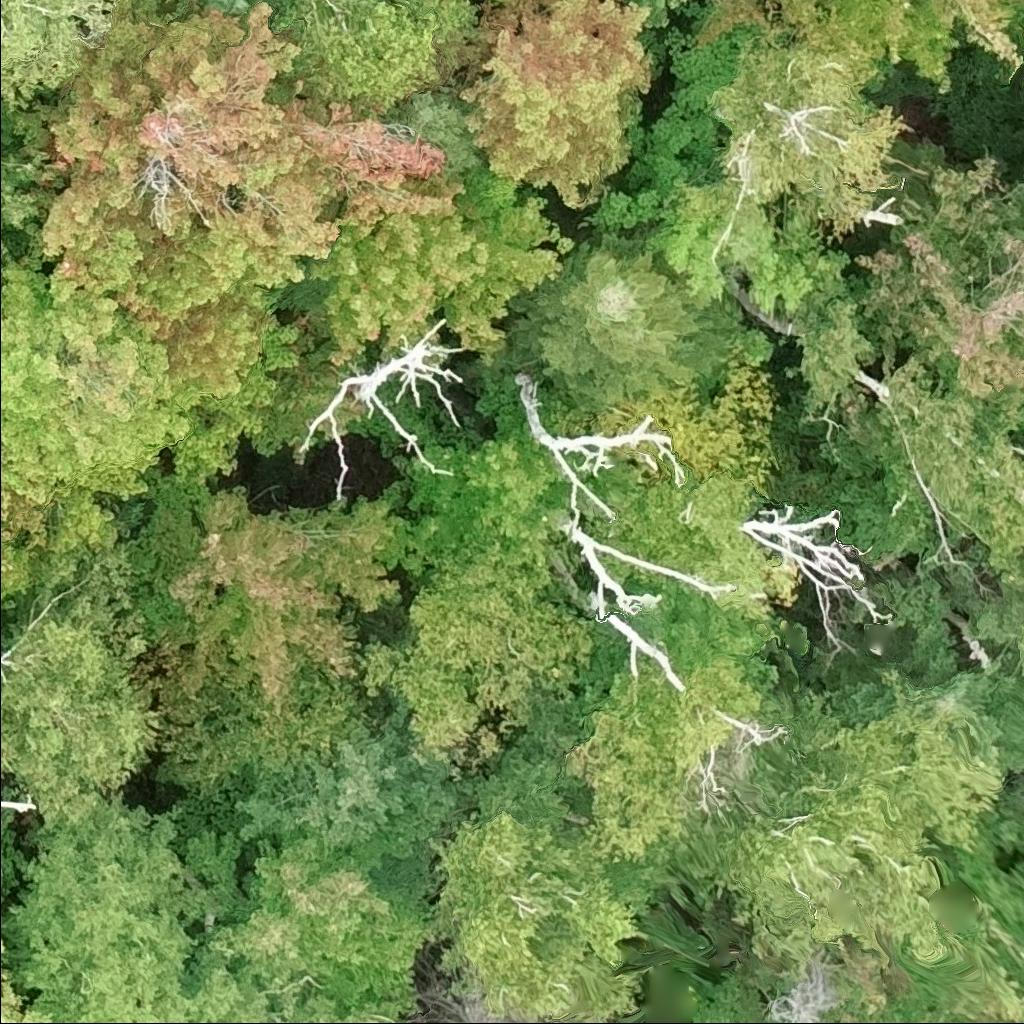crown: (25, 0, 452, 398), (701, 669, 1007, 962), (0, 323, 293, 588), (282, 168, 577, 368), (0, 790, 242, 1023), (513, 366, 736, 615), (353, 536, 597, 758), (122, 494, 358, 720), (425, 804, 660, 1021), (176, 825, 440, 1016), (0, 259, 201, 506), (564, 620, 766, 864), (0, 542, 159, 825), (849, 152, 1023, 400), (706, 33, 914, 236), (509, 234, 743, 414), (375, 360, 571, 574), (458, 0, 653, 207), (867, 349, 1023, 582), (580, 465, 798, 631), (821, 644, 1023, 769), (765, 0, 1023, 95), (270, 0, 479, 114), (739, 502, 894, 649), (298, 360, 458, 502), (277, 481, 412, 615), (0, 0, 117, 111), (0, 97, 62, 285), (379, 312, 472, 430), (221, 967, 400, 1023), (583, 597, 690, 690), (966, 580, 1023, 696), (0, 962, 62, 1023), (443, 993, 568, 1023), (189, 0, 274, 31), (0, 794, 35, 814), (0, 912, 11, 964), (164, 0, 193, 19), (0, 862, 4, 873)
